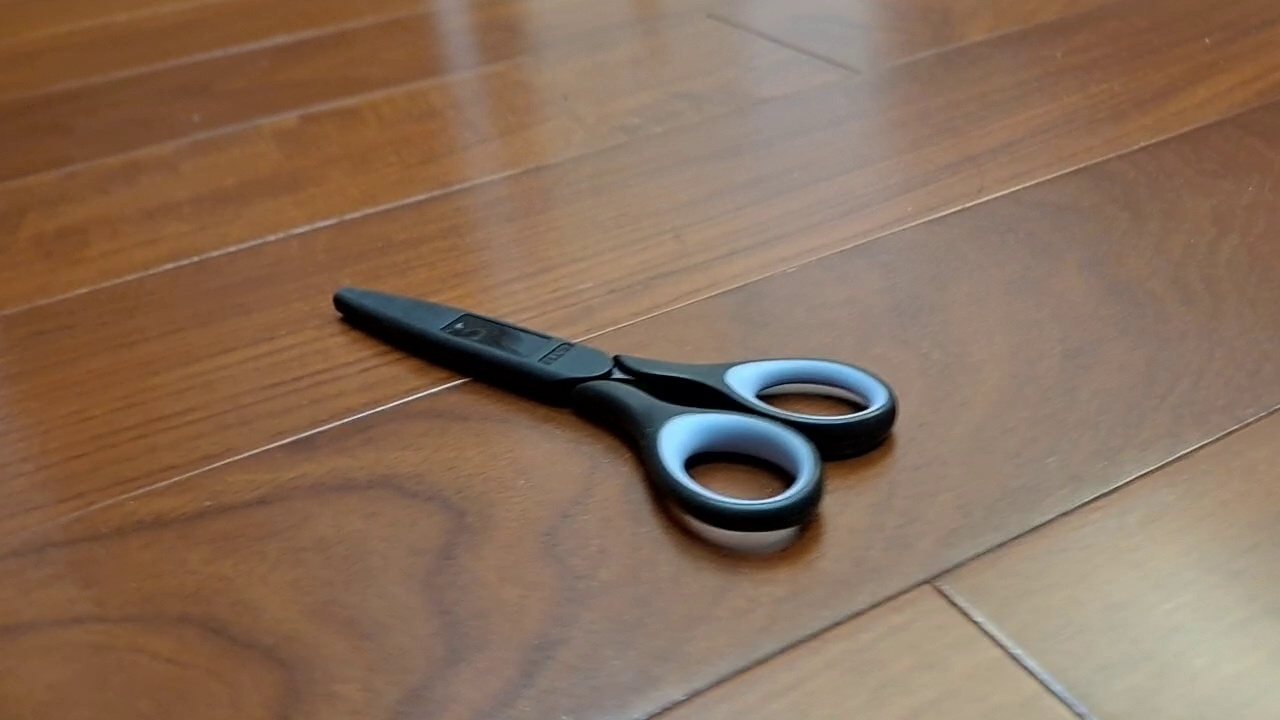scissors: (332, 286, 899, 533)
